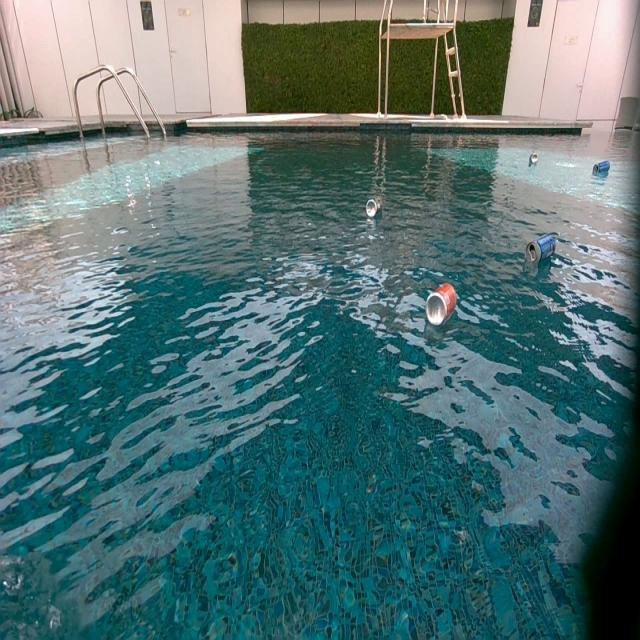Cans: (428, 283, 458, 328), (525, 235, 555, 267), (593, 161, 610, 175), (364, 201, 378, 218), (528, 152, 539, 165)
